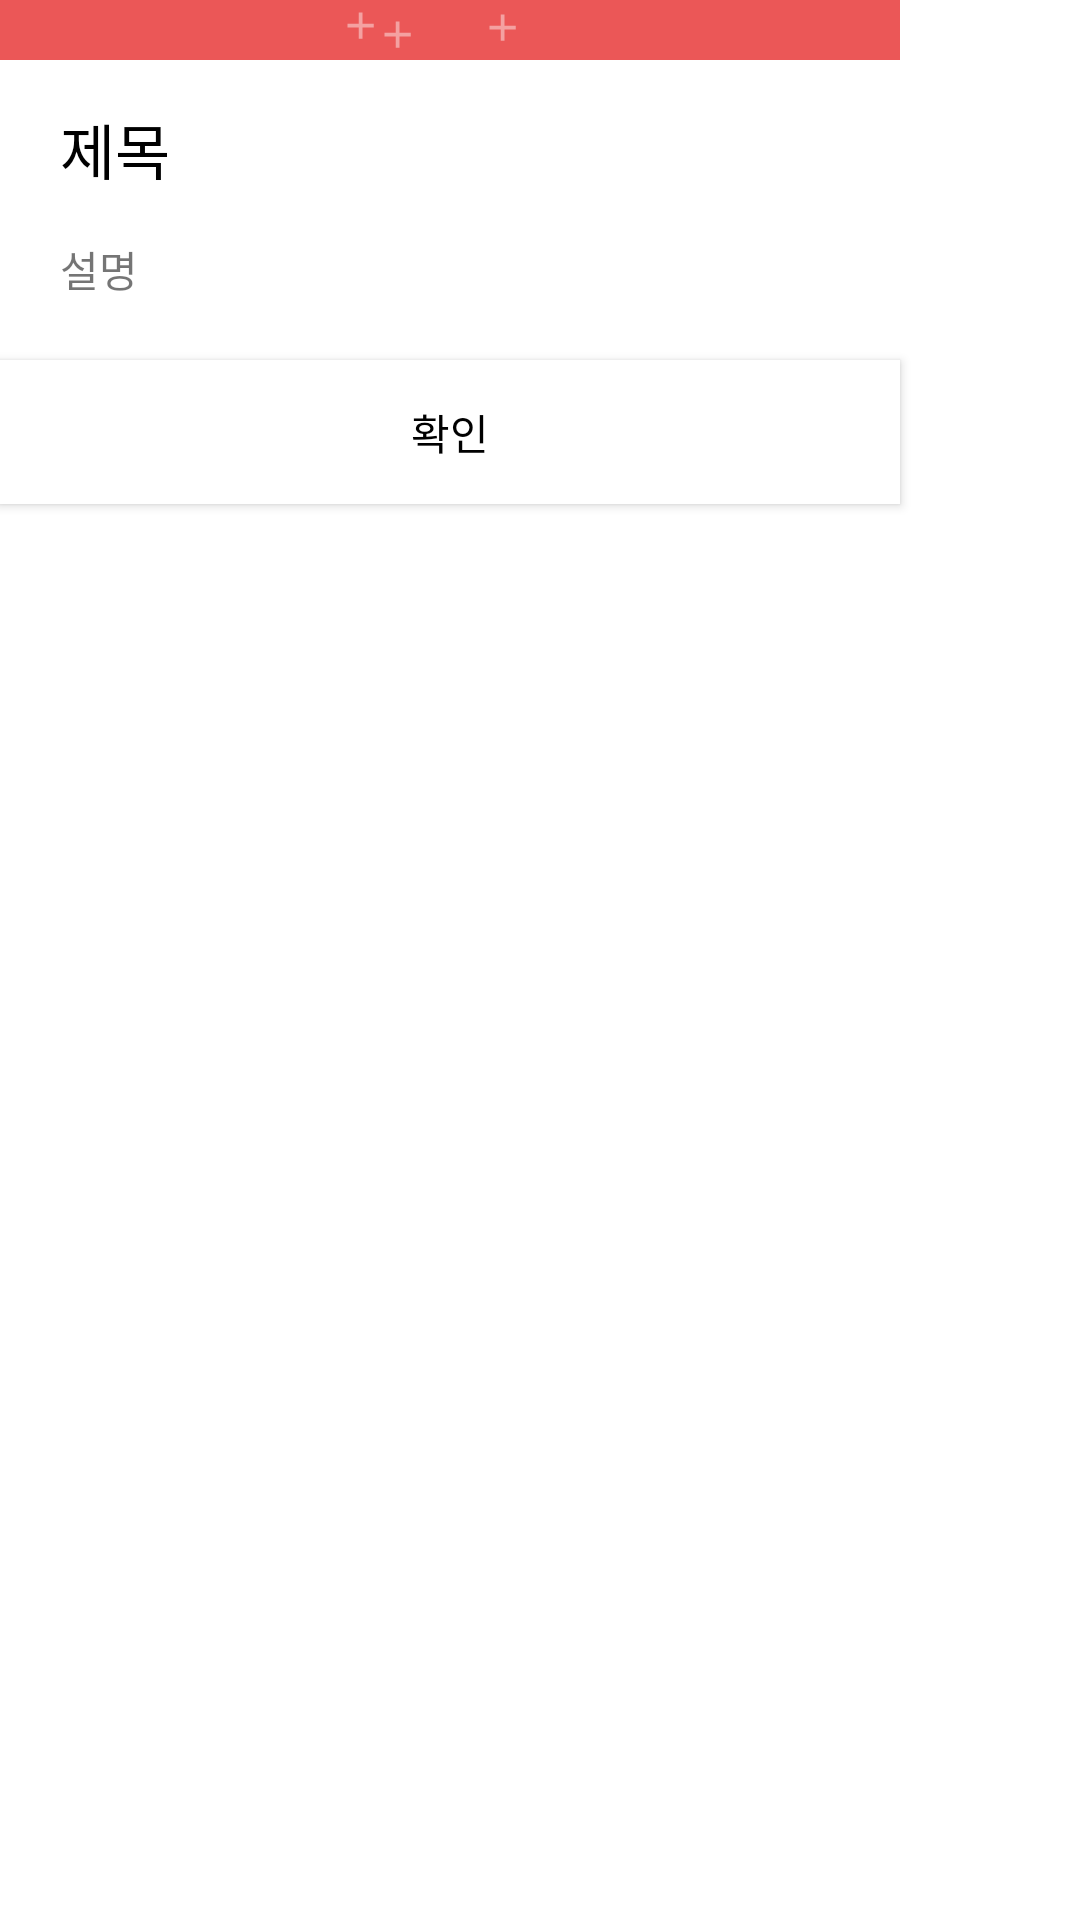

Icons on this 1080×1920 Android screen, each with the point to tap as (x=x, y=y):
status plus: (x=360, y=25), (x=502, y=27), (x=397, y=34)
